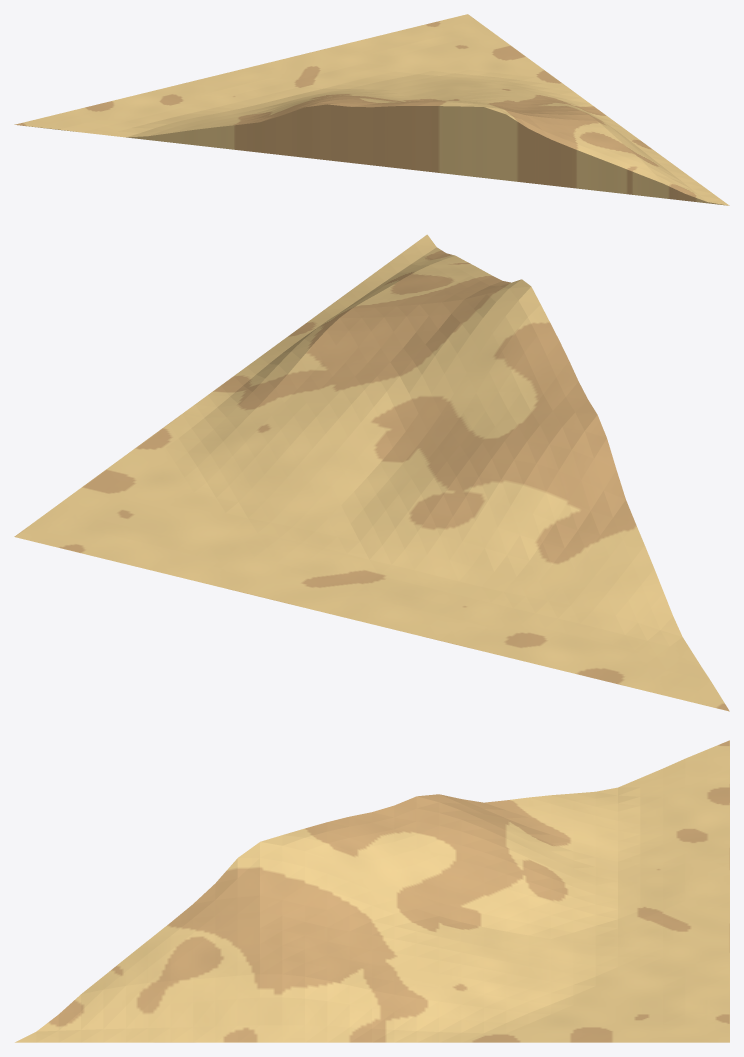
The model's file is Desert_Mountains_02_SE.obj.
3 views of the same model, one above another, from view 1: azimuth 30°, elevation 25°; view 2: azimuth 150°, elevation 25°; view 3: azimuth 270°, elevation 25° (orthographic). The views are drawn at different scales.
Size of the model in its own units: 10 by 1.49 by 10.
1 material, 1 textured.
